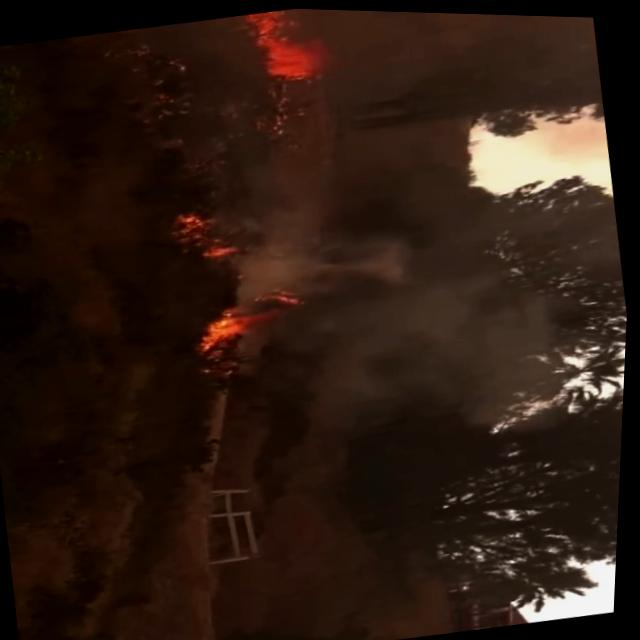fire: (220, 5, 394, 118)
smoke: (226, 180, 618, 404)
